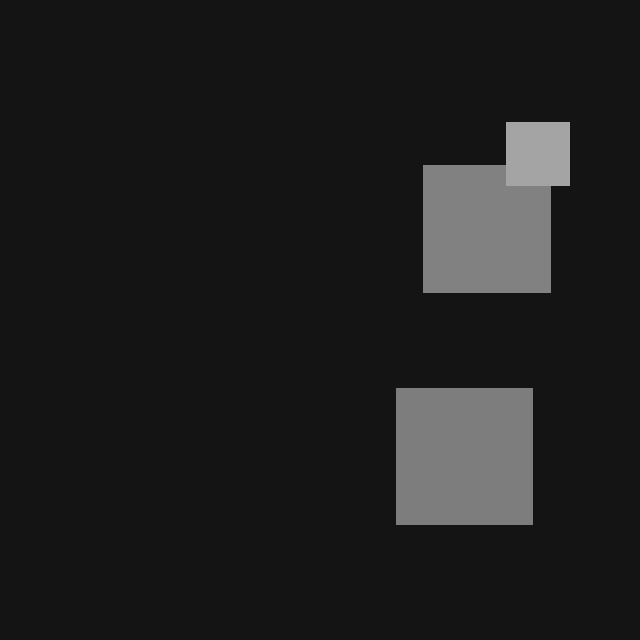square: (396, 388, 532, 524), (423, 165, 550, 292), (506, 122, 569, 185)
